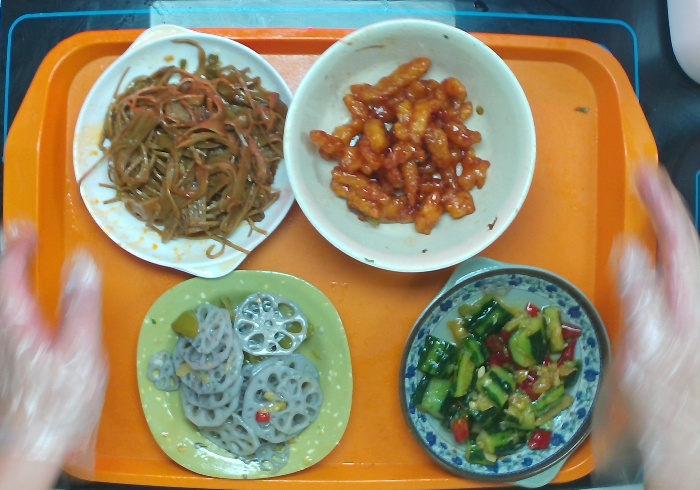NLDX-Bai_Se_Shuang_Er_Die: (70, 21, 301, 283)
NLDX-Bai_Se_Yuan_Wan: (278, 14, 541, 273)
NLDX-Lv_Hua_Fang_Die: (126, 265, 358, 484)
NLDX-Qing_Hua_Shuang_Er_Die: (397, 250, 616, 487)
